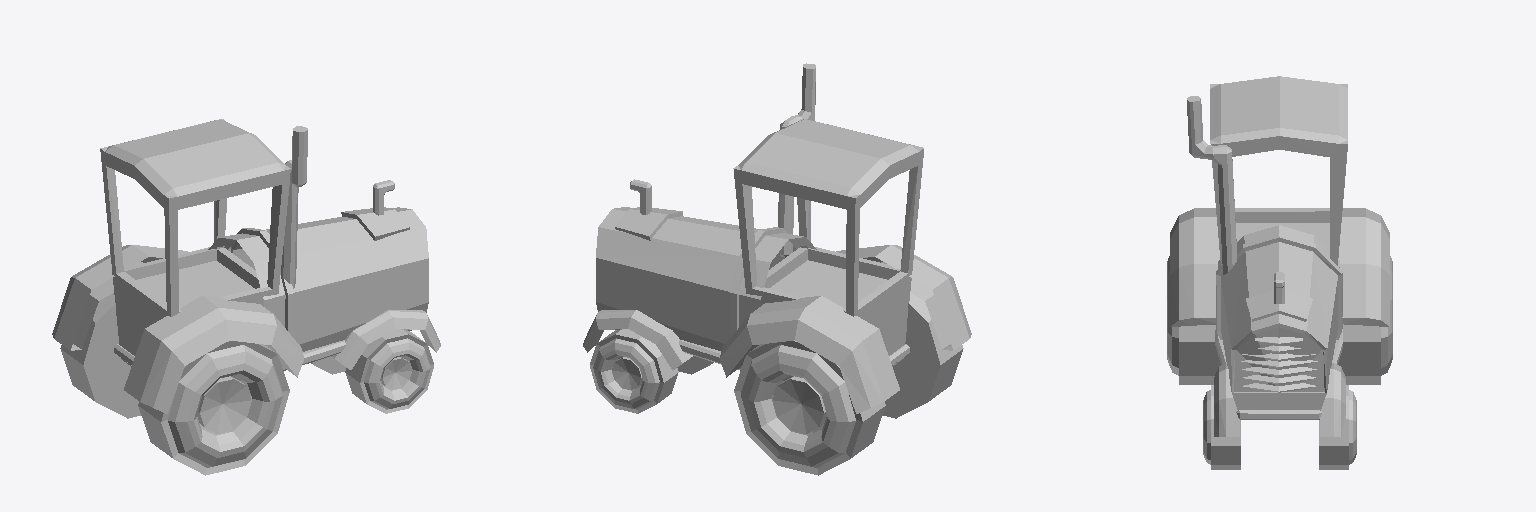
The model's file is Traktor.obj.
The picture shows the model from 3 angles: view 1: azimuth 30°, elevation 25°; view 2: azimuth 150°, elevation 25°; view 3: azimuth 270°, elevation 25°; orthographic projection.
Parts seen in each view (by area): view 1: pCylinder36; view 2: pCylinder36; view 3: pCylinder36.
Boxes of the visible parts, box(x1,y1,x2,y2) form: pCylinder36: box(52, 119, 440, 475); pCylinder36: box(583, 63, 971, 475); pCylinder36: box(1167, 76, 1392, 469).
Size of the model in its own units: 4.02 by 3.82 by 2.48.